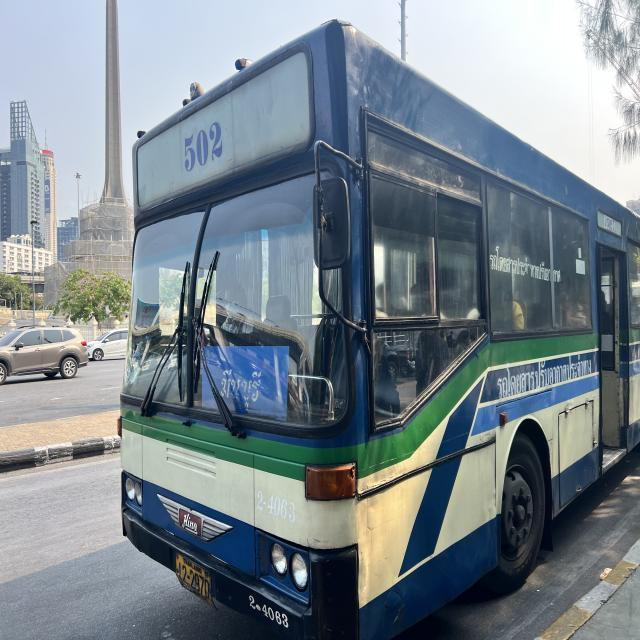BMTA-bus: (118, 19, 640, 640)
Bus-Line-Number: (178, 114, 226, 176)
Destination-Sign-Normal: (200, 348, 287, 418)
